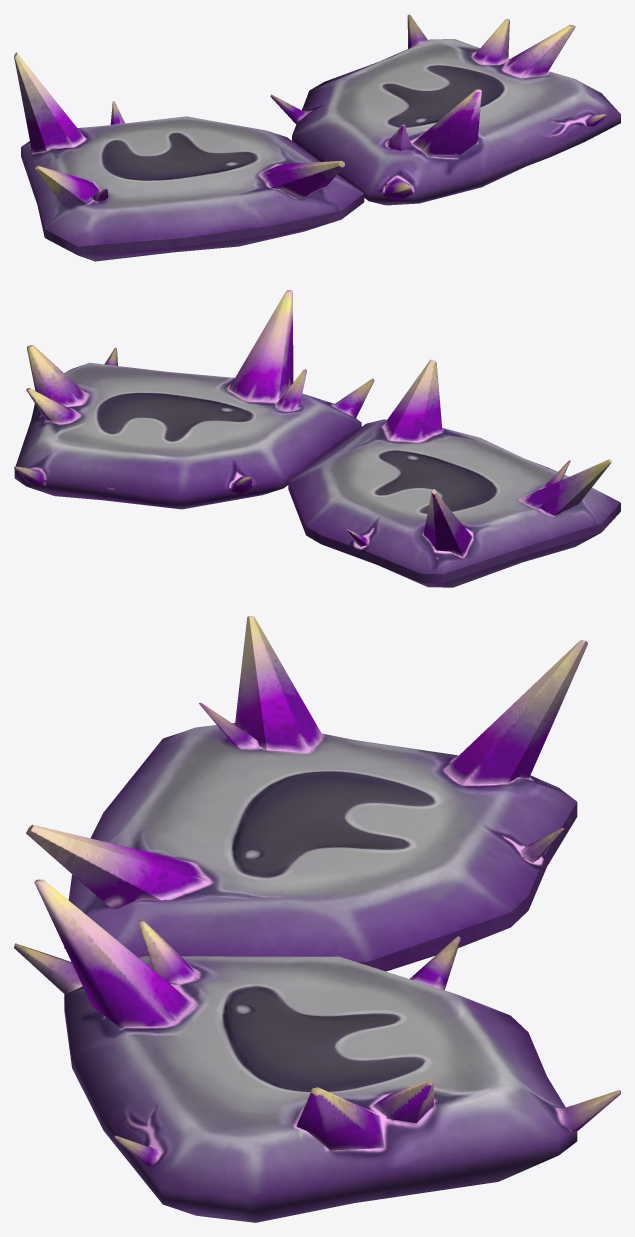
File: Corruption_Tile_02.fbx
3 renders of one model, top to bottom at view 1: azimuth 30°, elevation 25°; view 2: azimuth 150°, elevation 25°; view 3: azimuth 270°, elevation 25°, orthographic. The views are drawn at different scales.
Visible parts, largest first — view 1: Right_Wing_Tile, Left_Wing_Tile; view 2: Left_Wing_Tile, Right_Wing_Tile; view 3: Left_Wing_Tile, Right_Wing_Tile.
Boxes of the visible parts, x1,y1,x2,y2 form: Right_Wing_Tile: (14, 52, 364, 261); Left_Wing_Tile: (270, 14, 620, 205); Left_Wing_Tile: (14, 290, 374, 509); Right_Wing_Tile: (288, 359, 620, 587); Left_Wing_Tile: (14, 879, 620, 1222); Right_Wing_Tile: (26, 616, 588, 971).
Bounding box in the file's own units: 3.16 × 0.6501 × 1.72.
